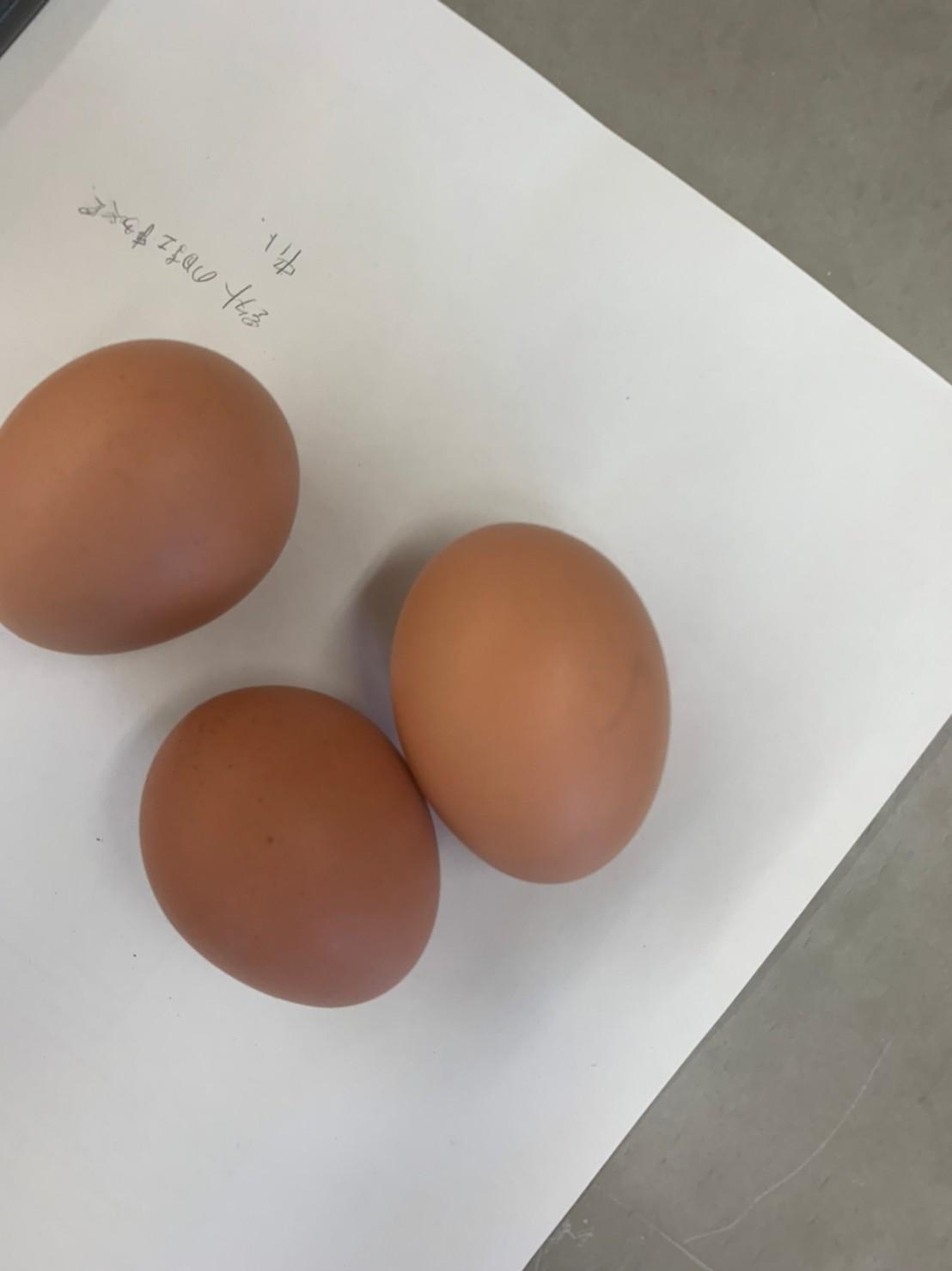egg: (386, 507, 673, 892), (124, 689, 449, 1015), (0, 328, 310, 660)
